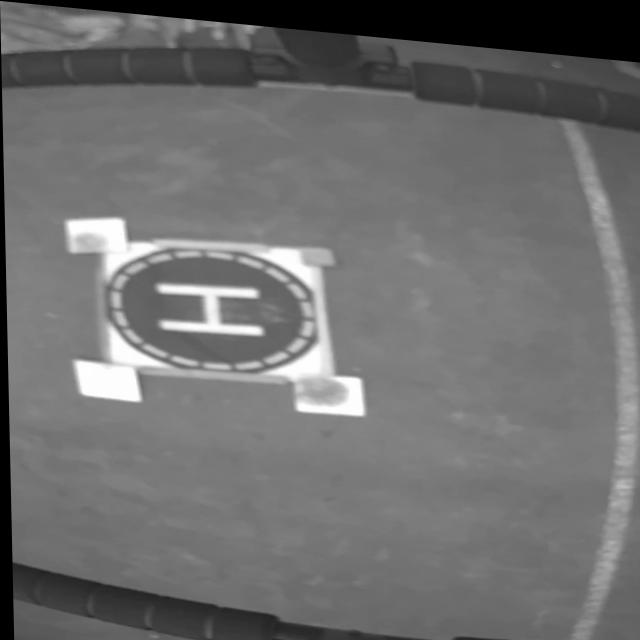Helipad: (151, 277, 266, 331)
